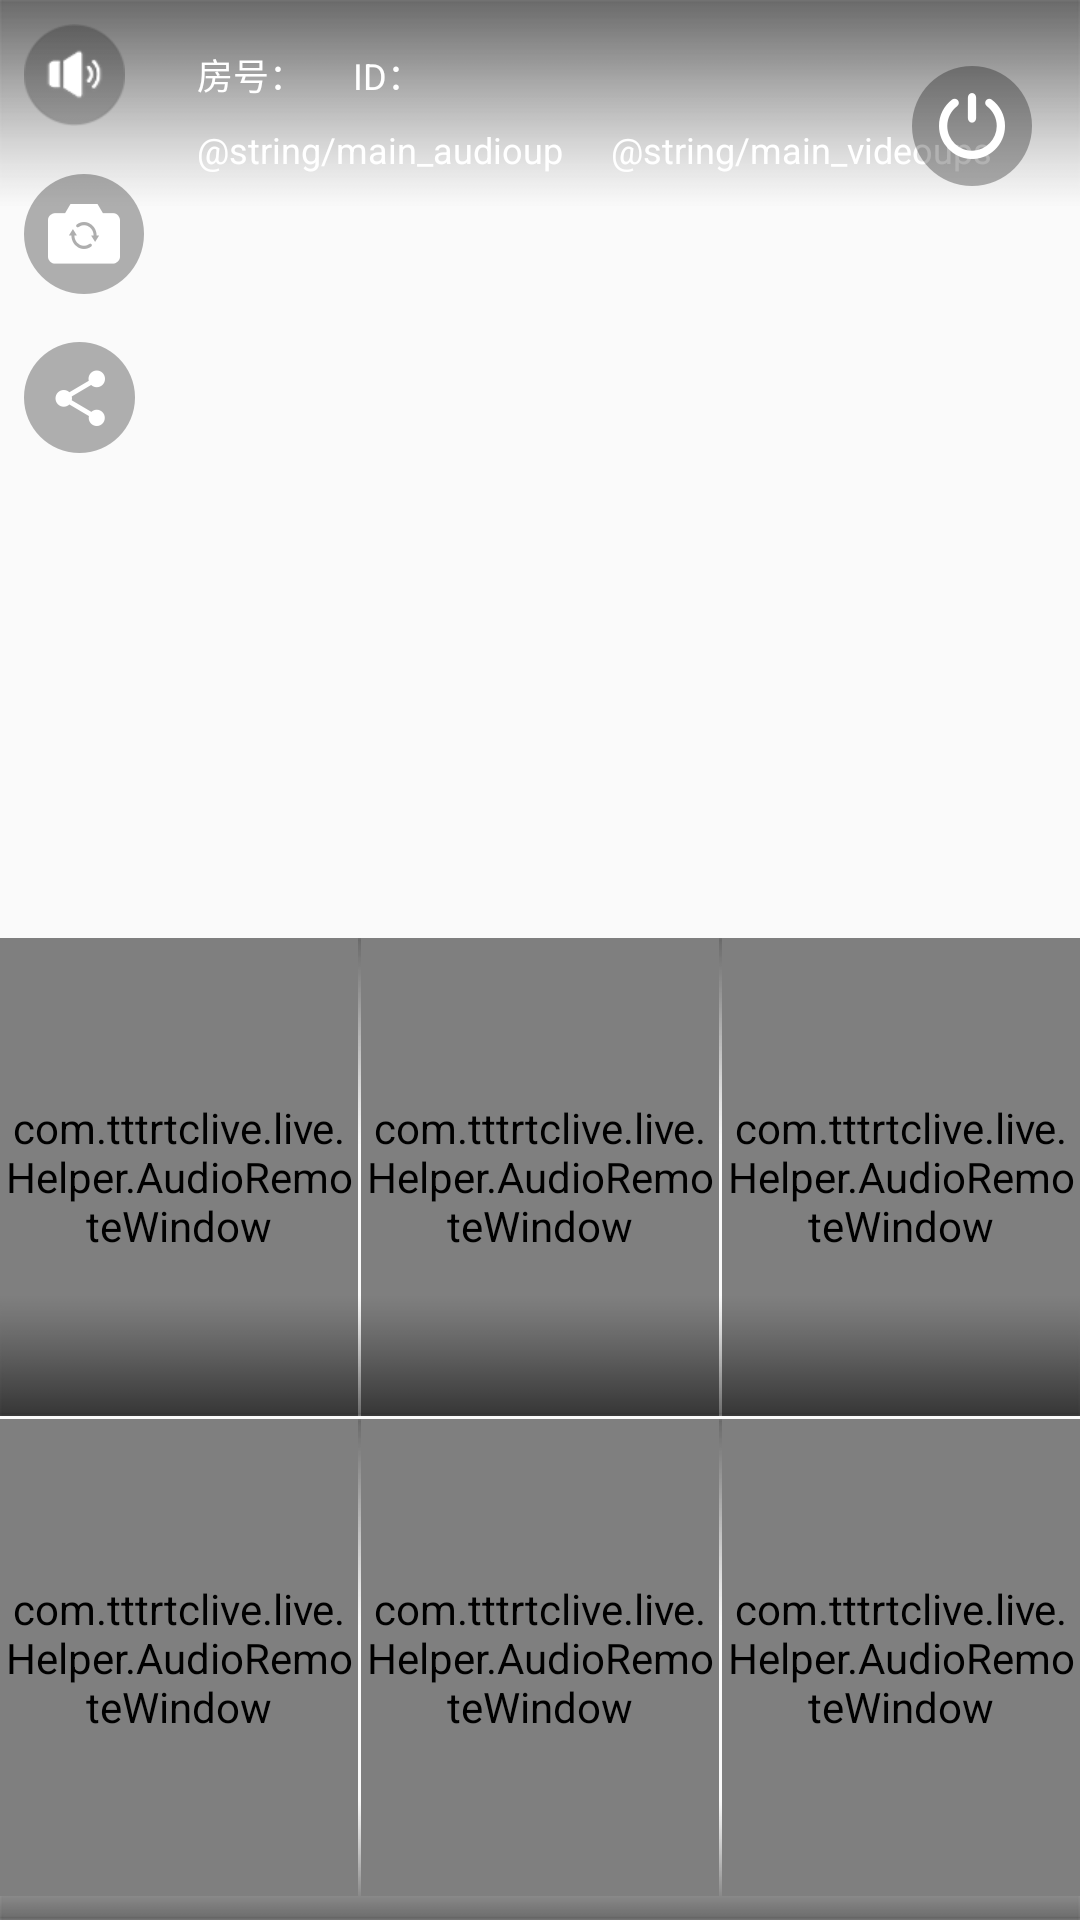

Screen size 1080 x 1920. Icon name, then its center in pixels as [x,y]:
mainly camera: [84,234]
share hover: [79,397]
